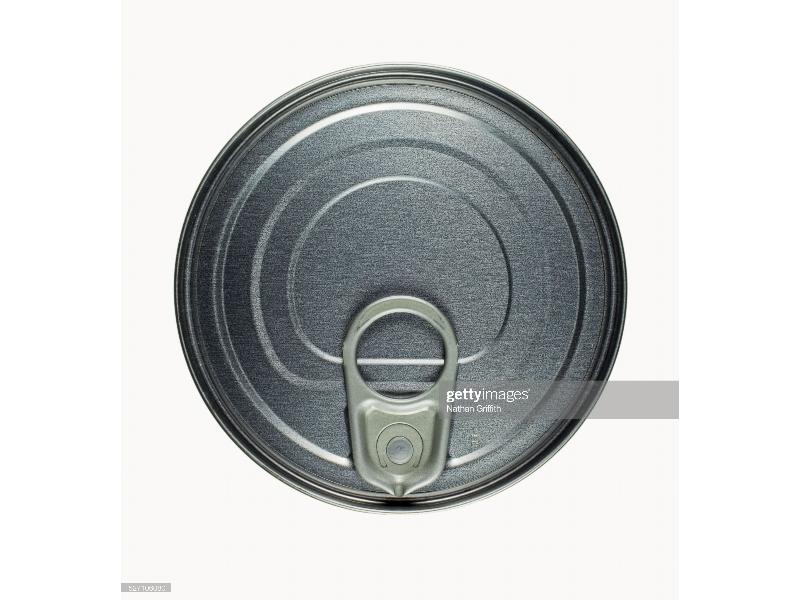can: (170, 58, 631, 518)
